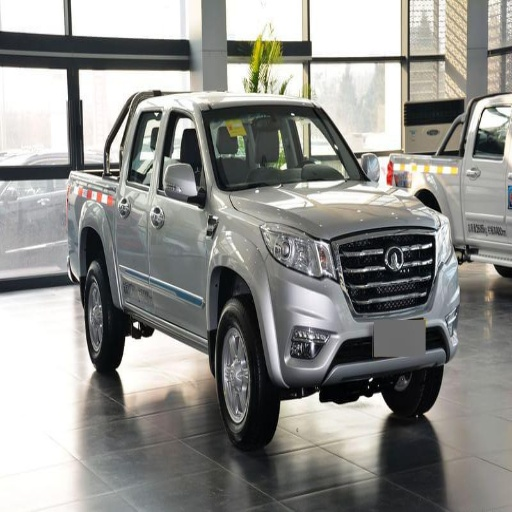front_bumper: (253, 231, 460, 390)
front_right_door: (149, 108, 212, 332)
front_right_light: (261, 224, 337, 277)
hood: (235, 180, 442, 239)
trunk: (47, 174, 107, 278)
